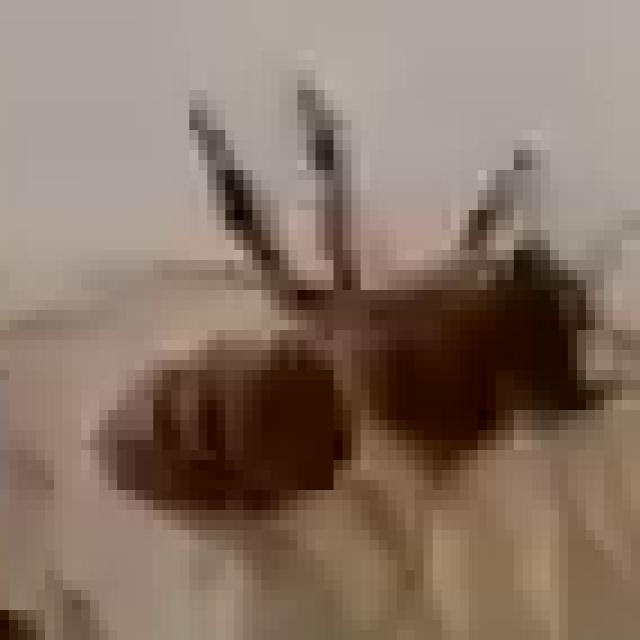honeybee: (81, 176, 640, 554)
